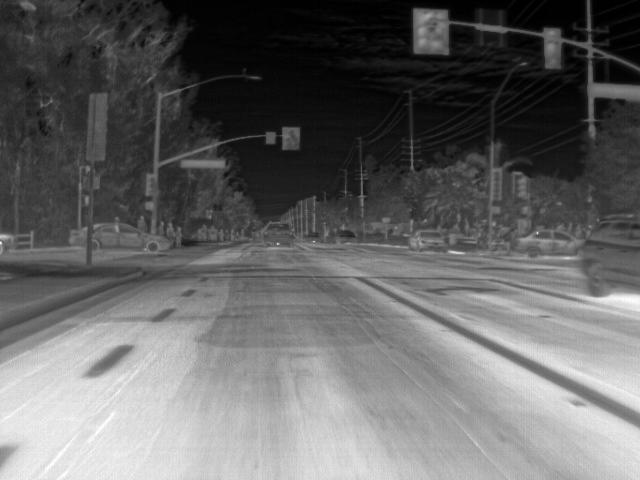car: (580, 211, 640, 299), (93, 220, 171, 253), (514, 227, 583, 260), (410, 229, 449, 253), (260, 222, 295, 248), (70, 223, 90, 250), (1, 231, 16, 256), (336, 230, 358, 244), (304, 228, 322, 244)
person: (135, 212, 149, 229), (155, 218, 167, 236), (175, 224, 184, 245), (208, 223, 216, 243), (200, 223, 208, 241), (167, 222, 177, 236), (217, 226, 224, 241)
